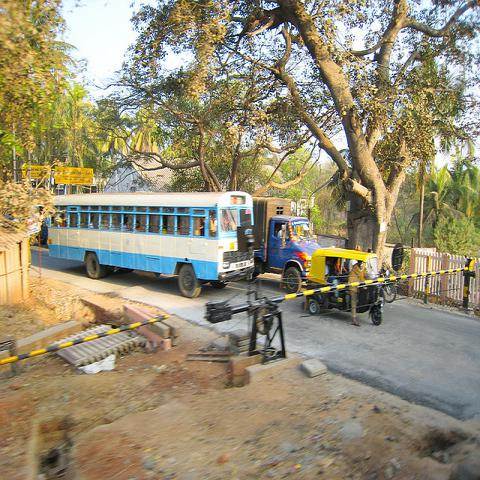bus: (46, 192, 255, 300)
motorcycle: (378, 266, 396, 303)
truck: (252, 197, 322, 294)
